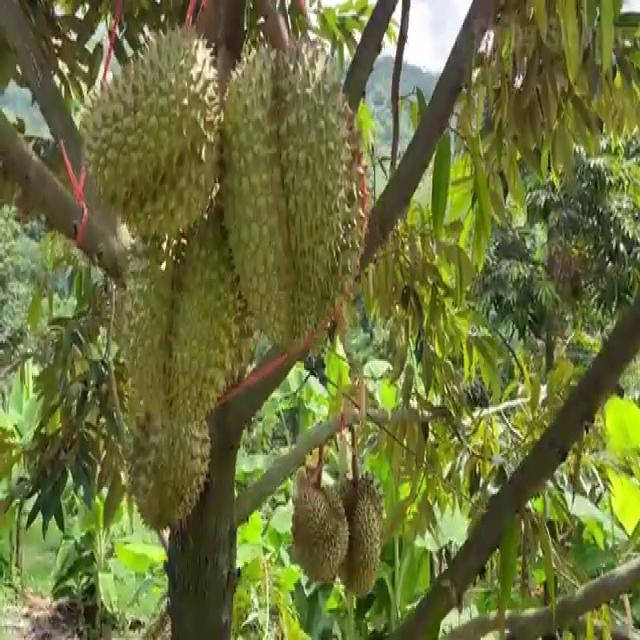durian: (216, 32, 351, 360), (74, 18, 230, 251), (120, 157, 245, 427), (124, 376, 213, 536), (291, 474, 351, 586), (336, 469, 385, 602)
